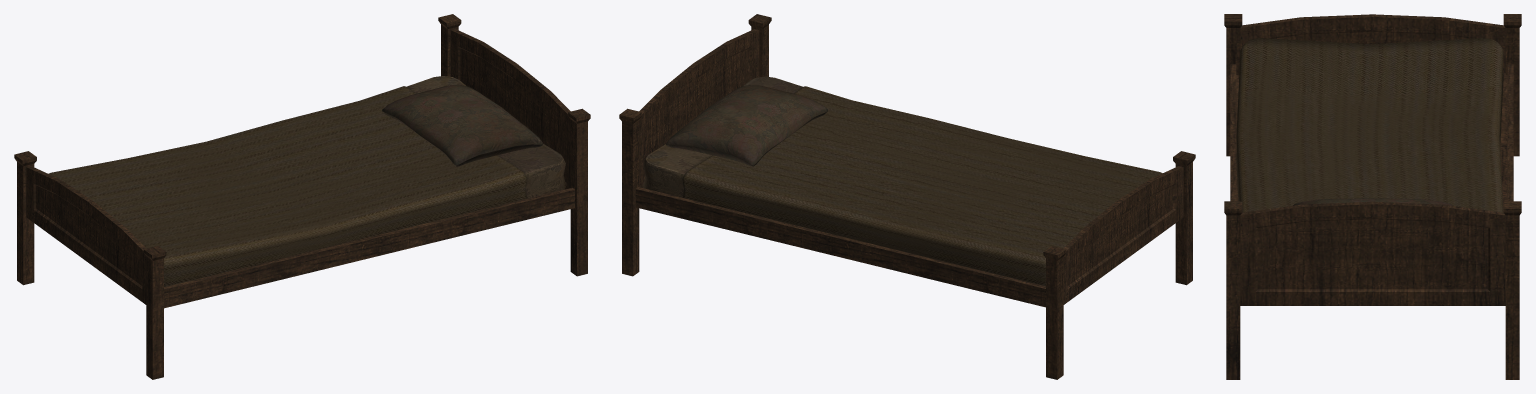
The model's file is bed_5_1.dae.
3 renders of one model, left to right at view 1: azimuth 30°, elevation 25°; view 2: azimuth 150°, elevation 25°; view 3: azimuth 270°, elevation 25°, orthographic. The views are drawn at different scales.
Visible parts, largest first — view 1: bed_5_1; view 2: bed_5_1; view 3: bed_5_1.
Boxes of the visible parts, x1,y1,x2,y2 form: bed_5_1: (14, 14, 590, 379); bed_5_1: (619, 14, 1195, 379); bed_5_1: (1224, 14, 1521, 379).
Size of the model in its own units: 2.74 by 1.49 by 0.9621.
Materials: 3 (3 with a texture image).
